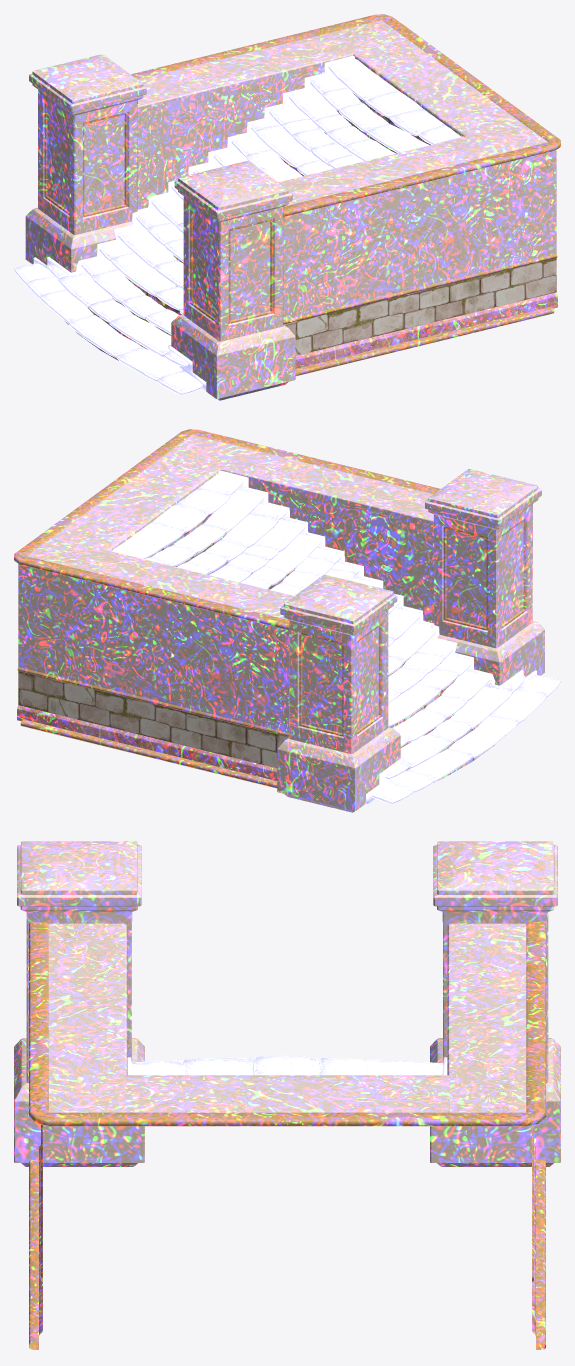
The model's file is stairs_1x0_5_SM.fbx.
The picture shows the model from 3 angles, top to bottom: view 1: azimuth 30°, elevation 25°; view 2: azimuth 150°, elevation 25°; view 3: azimuth 270°, elevation 25°; orthographic projection. The views are drawn at different scales.
Visible parts, largest first — view 1: stairs_1x0_5_SM_LOD0; view 2: stairs_1x0_5_SM_LOD0; view 3: stairs_1x0_5_SM_LOD0.
Part boxes in pixels (left/top/right/bottom): stairs_1x0_5_SM_LOD0: left=14, top=14, right=560, bottom=400; stairs_1x0_5_SM_LOD0: left=14, top=429, right=560, bottom=812; stairs_1x0_5_SM_LOD0: left=14, top=841, right=560, bottom=1349.
Size of the model in its own units: 1307 by 1094 by 624.
10 materials, 9 textured.
